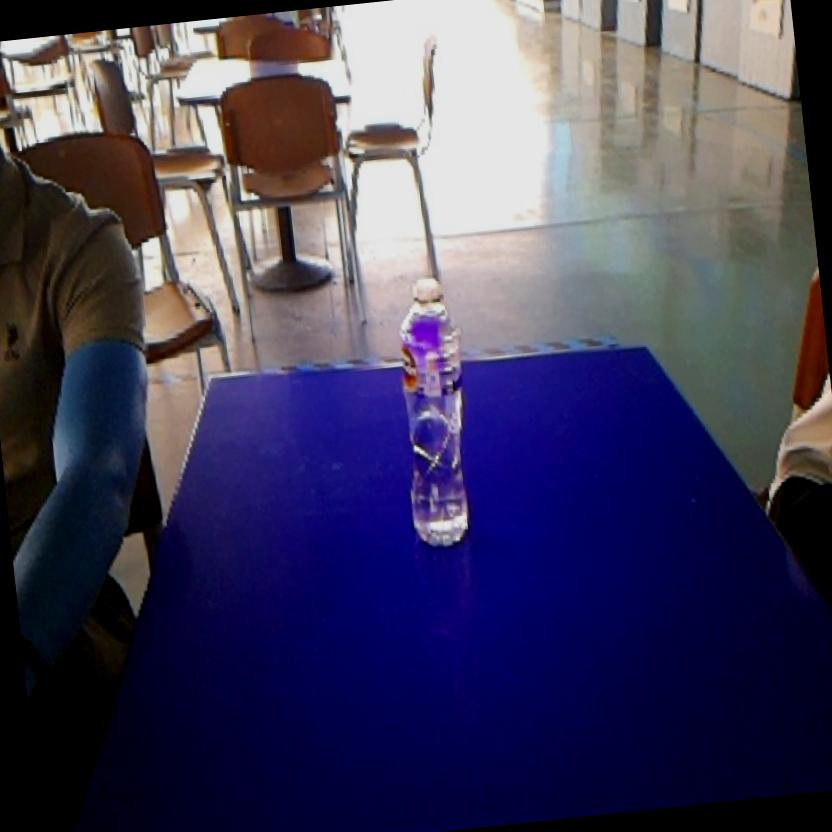no_cap: (378, 264, 492, 561)
